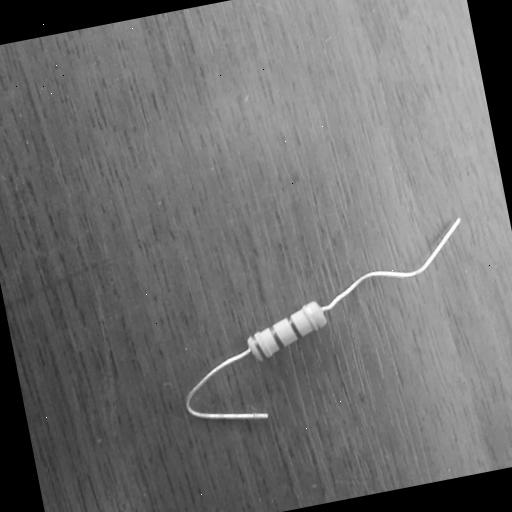RESISTOR: (208, 255, 382, 427)
